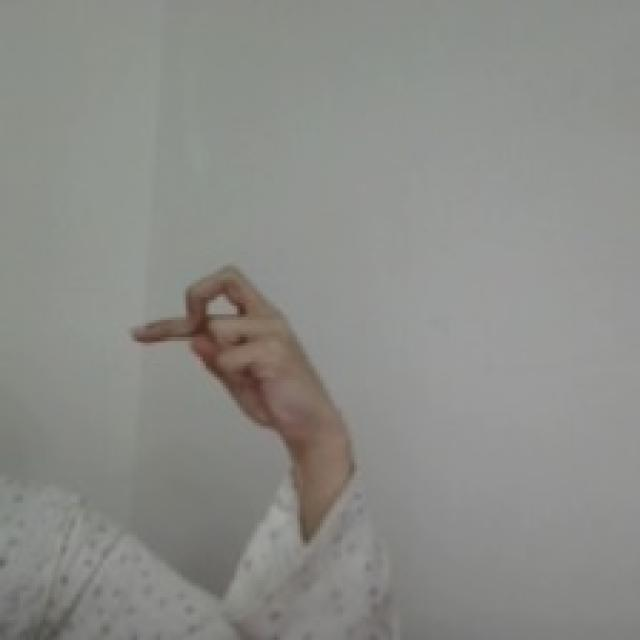sunday: (123, 257, 330, 432)
